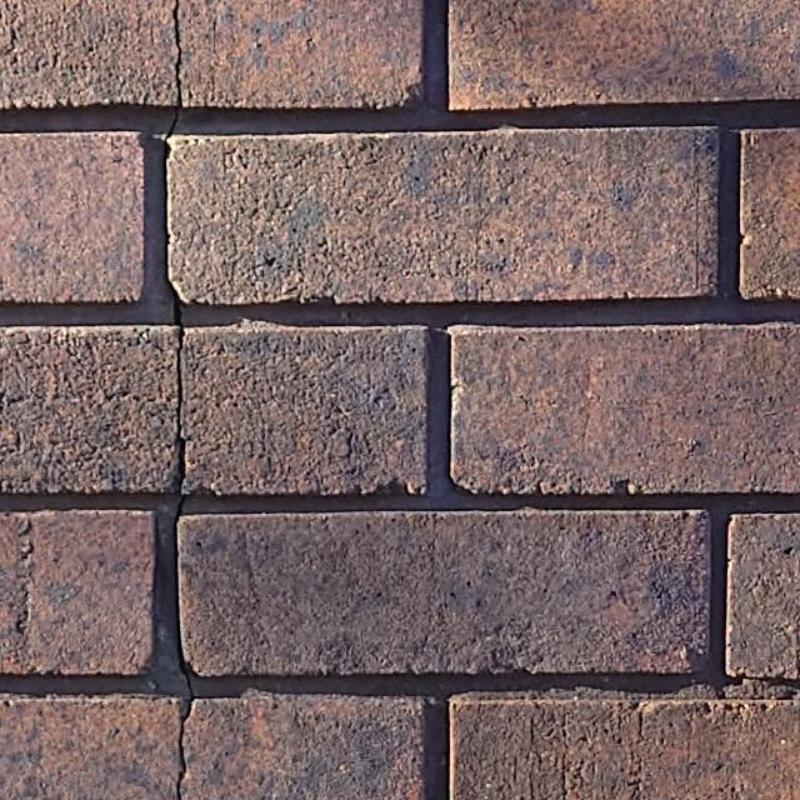crack: (162, 111, 186, 493), (173, 493, 195, 800), (171, 0, 183, 105)
